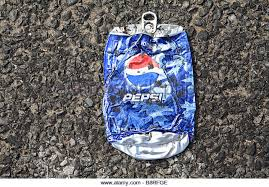can: (103, 10, 200, 171)
